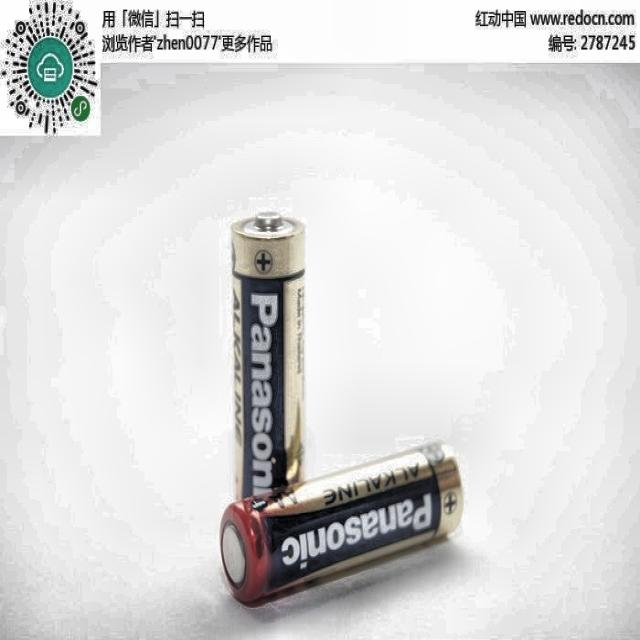Non-Valuable Waste - Batteries: (221, 445, 462, 604), (231, 214, 304, 498)
